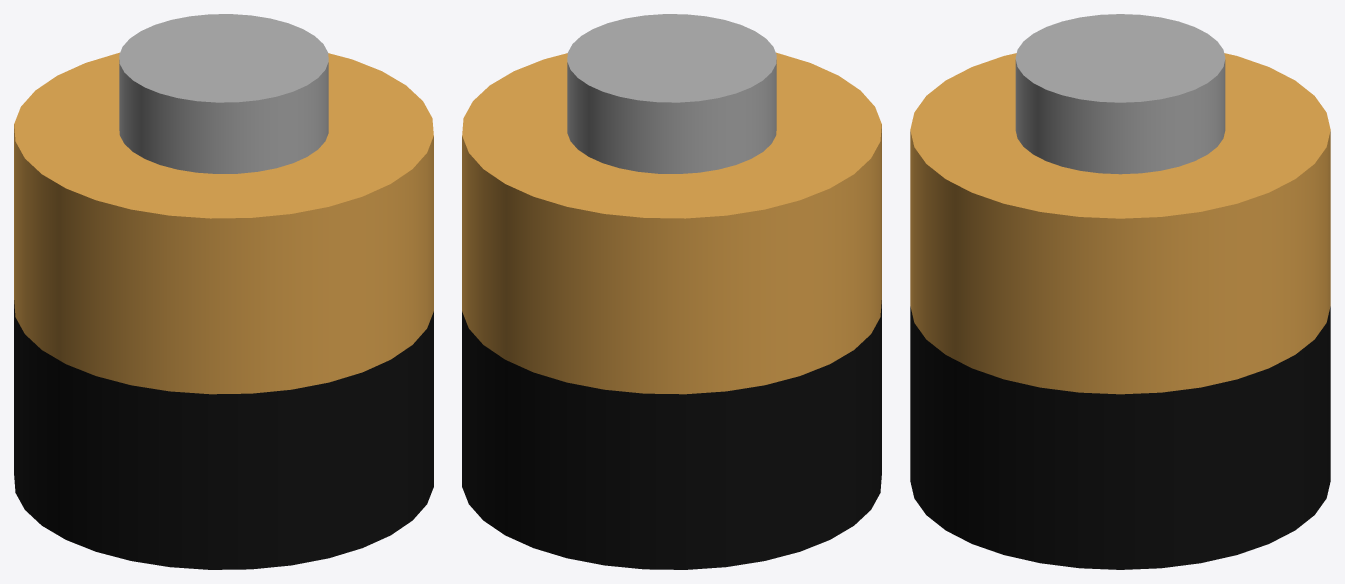
File: Pila.fbx
3 views of the same model, side by side, from view 1: azimuth 30°, elevation 25°; view 2: azimuth 150°, elevation 25°; view 3: azimuth 270°, elevation 25° (orthographic).
Visible parts, largest first — view 1: Pila; view 2: Pila; view 3: Pila.
Boxes of the visible parts, x1,y1,x2,y2 form: Pila: [14, 14, 433, 569]; Pila: [462, 14, 881, 569]; Pila: [910, 14, 1330, 569].
Bounding box in the file's own units: 8.16 × 9.06 × 8.16.
